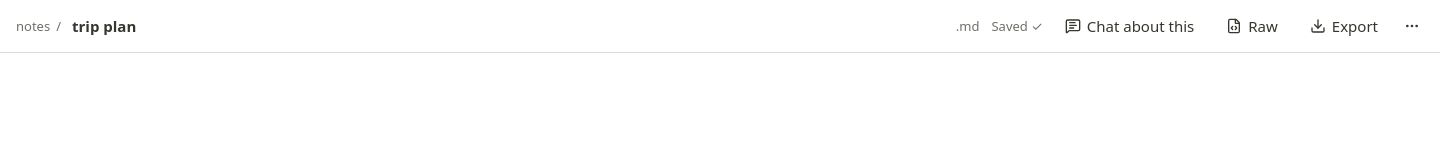
Test: Escape reverts the title without firing a rename
Replace the text in the field showing "trip plan" with "discarded" at (508, 26), box [67,13,950,39]
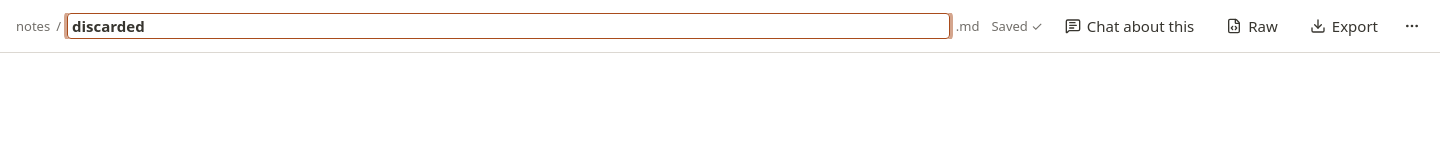
Press Escape
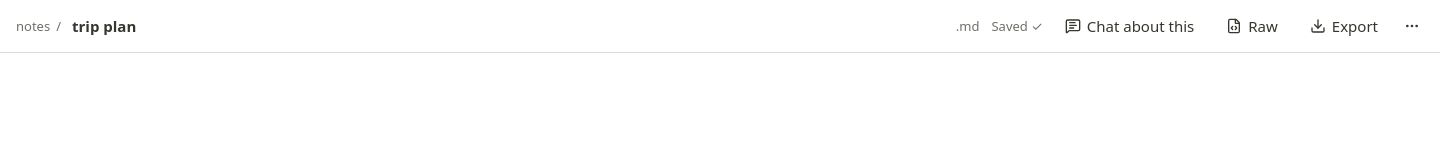
Now the field showing "trip plan" holds "trip plan", box [67,13,950,39]
